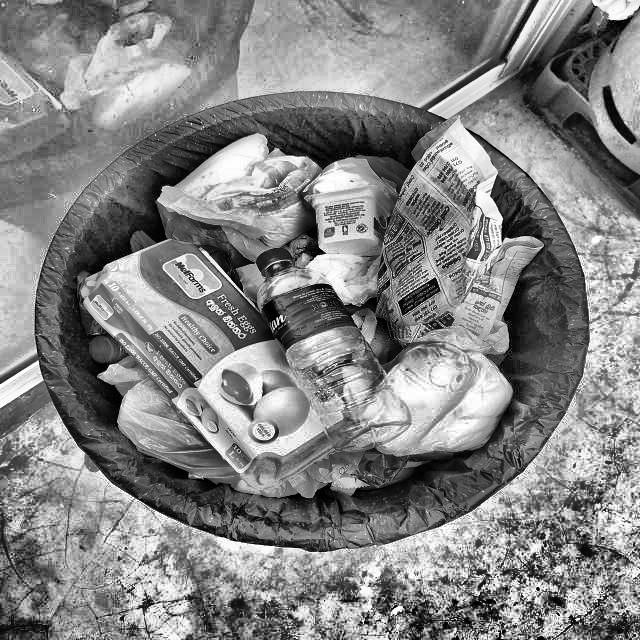Bottle-Disposed: (33, 82, 596, 554)
